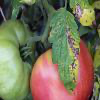Tomato Septoria leaf spot: (51, 6, 82, 94), (69, 1, 96, 26)
